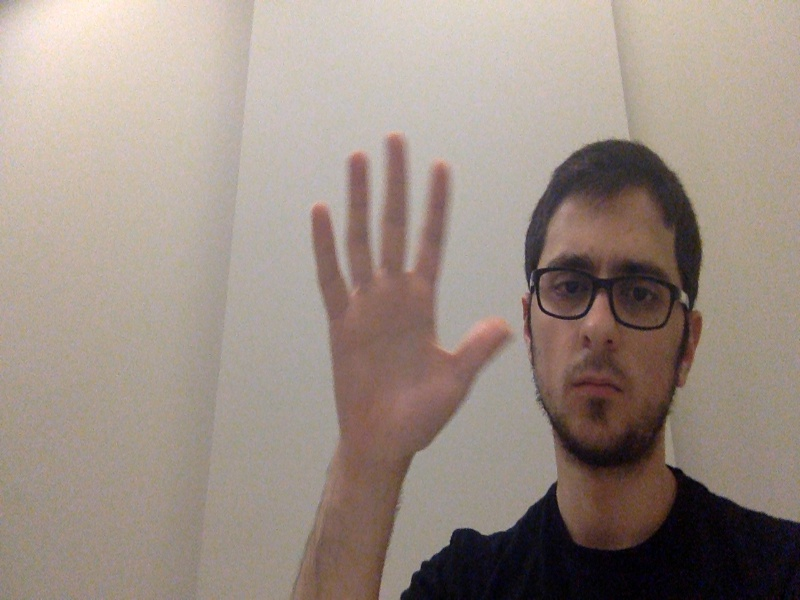5-hand: (307, 130, 518, 457)
